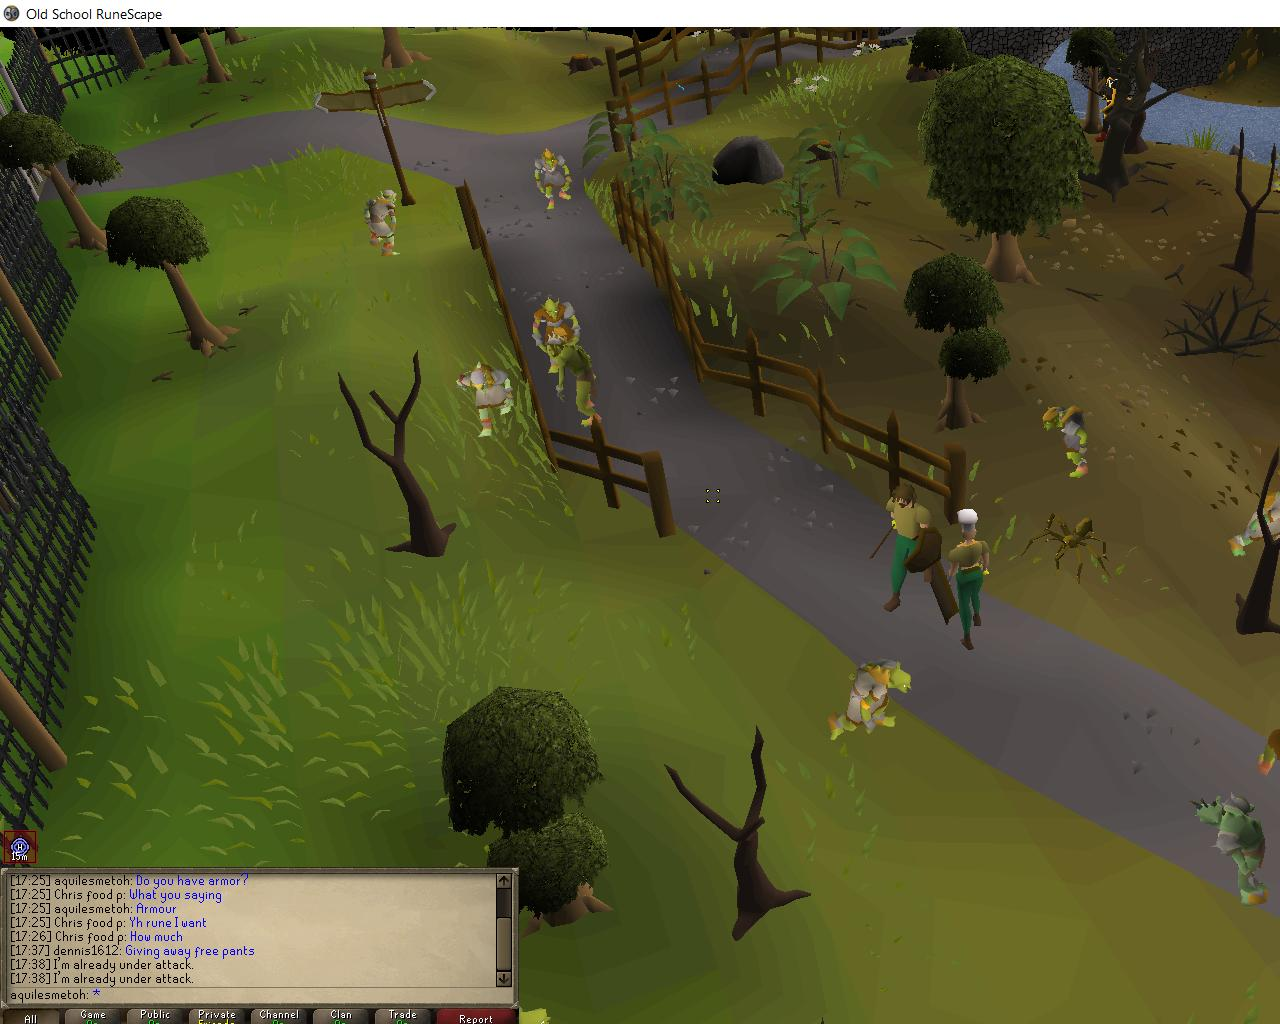Goblin: (1190, 794, 1271, 907), (828, 656, 912, 742), (544, 334, 609, 428), (451, 362, 523, 439), (530, 297, 584, 375), (1042, 402, 1092, 480), (1229, 485, 1280, 559), (362, 188, 403, 260), (532, 148, 579, 210)
